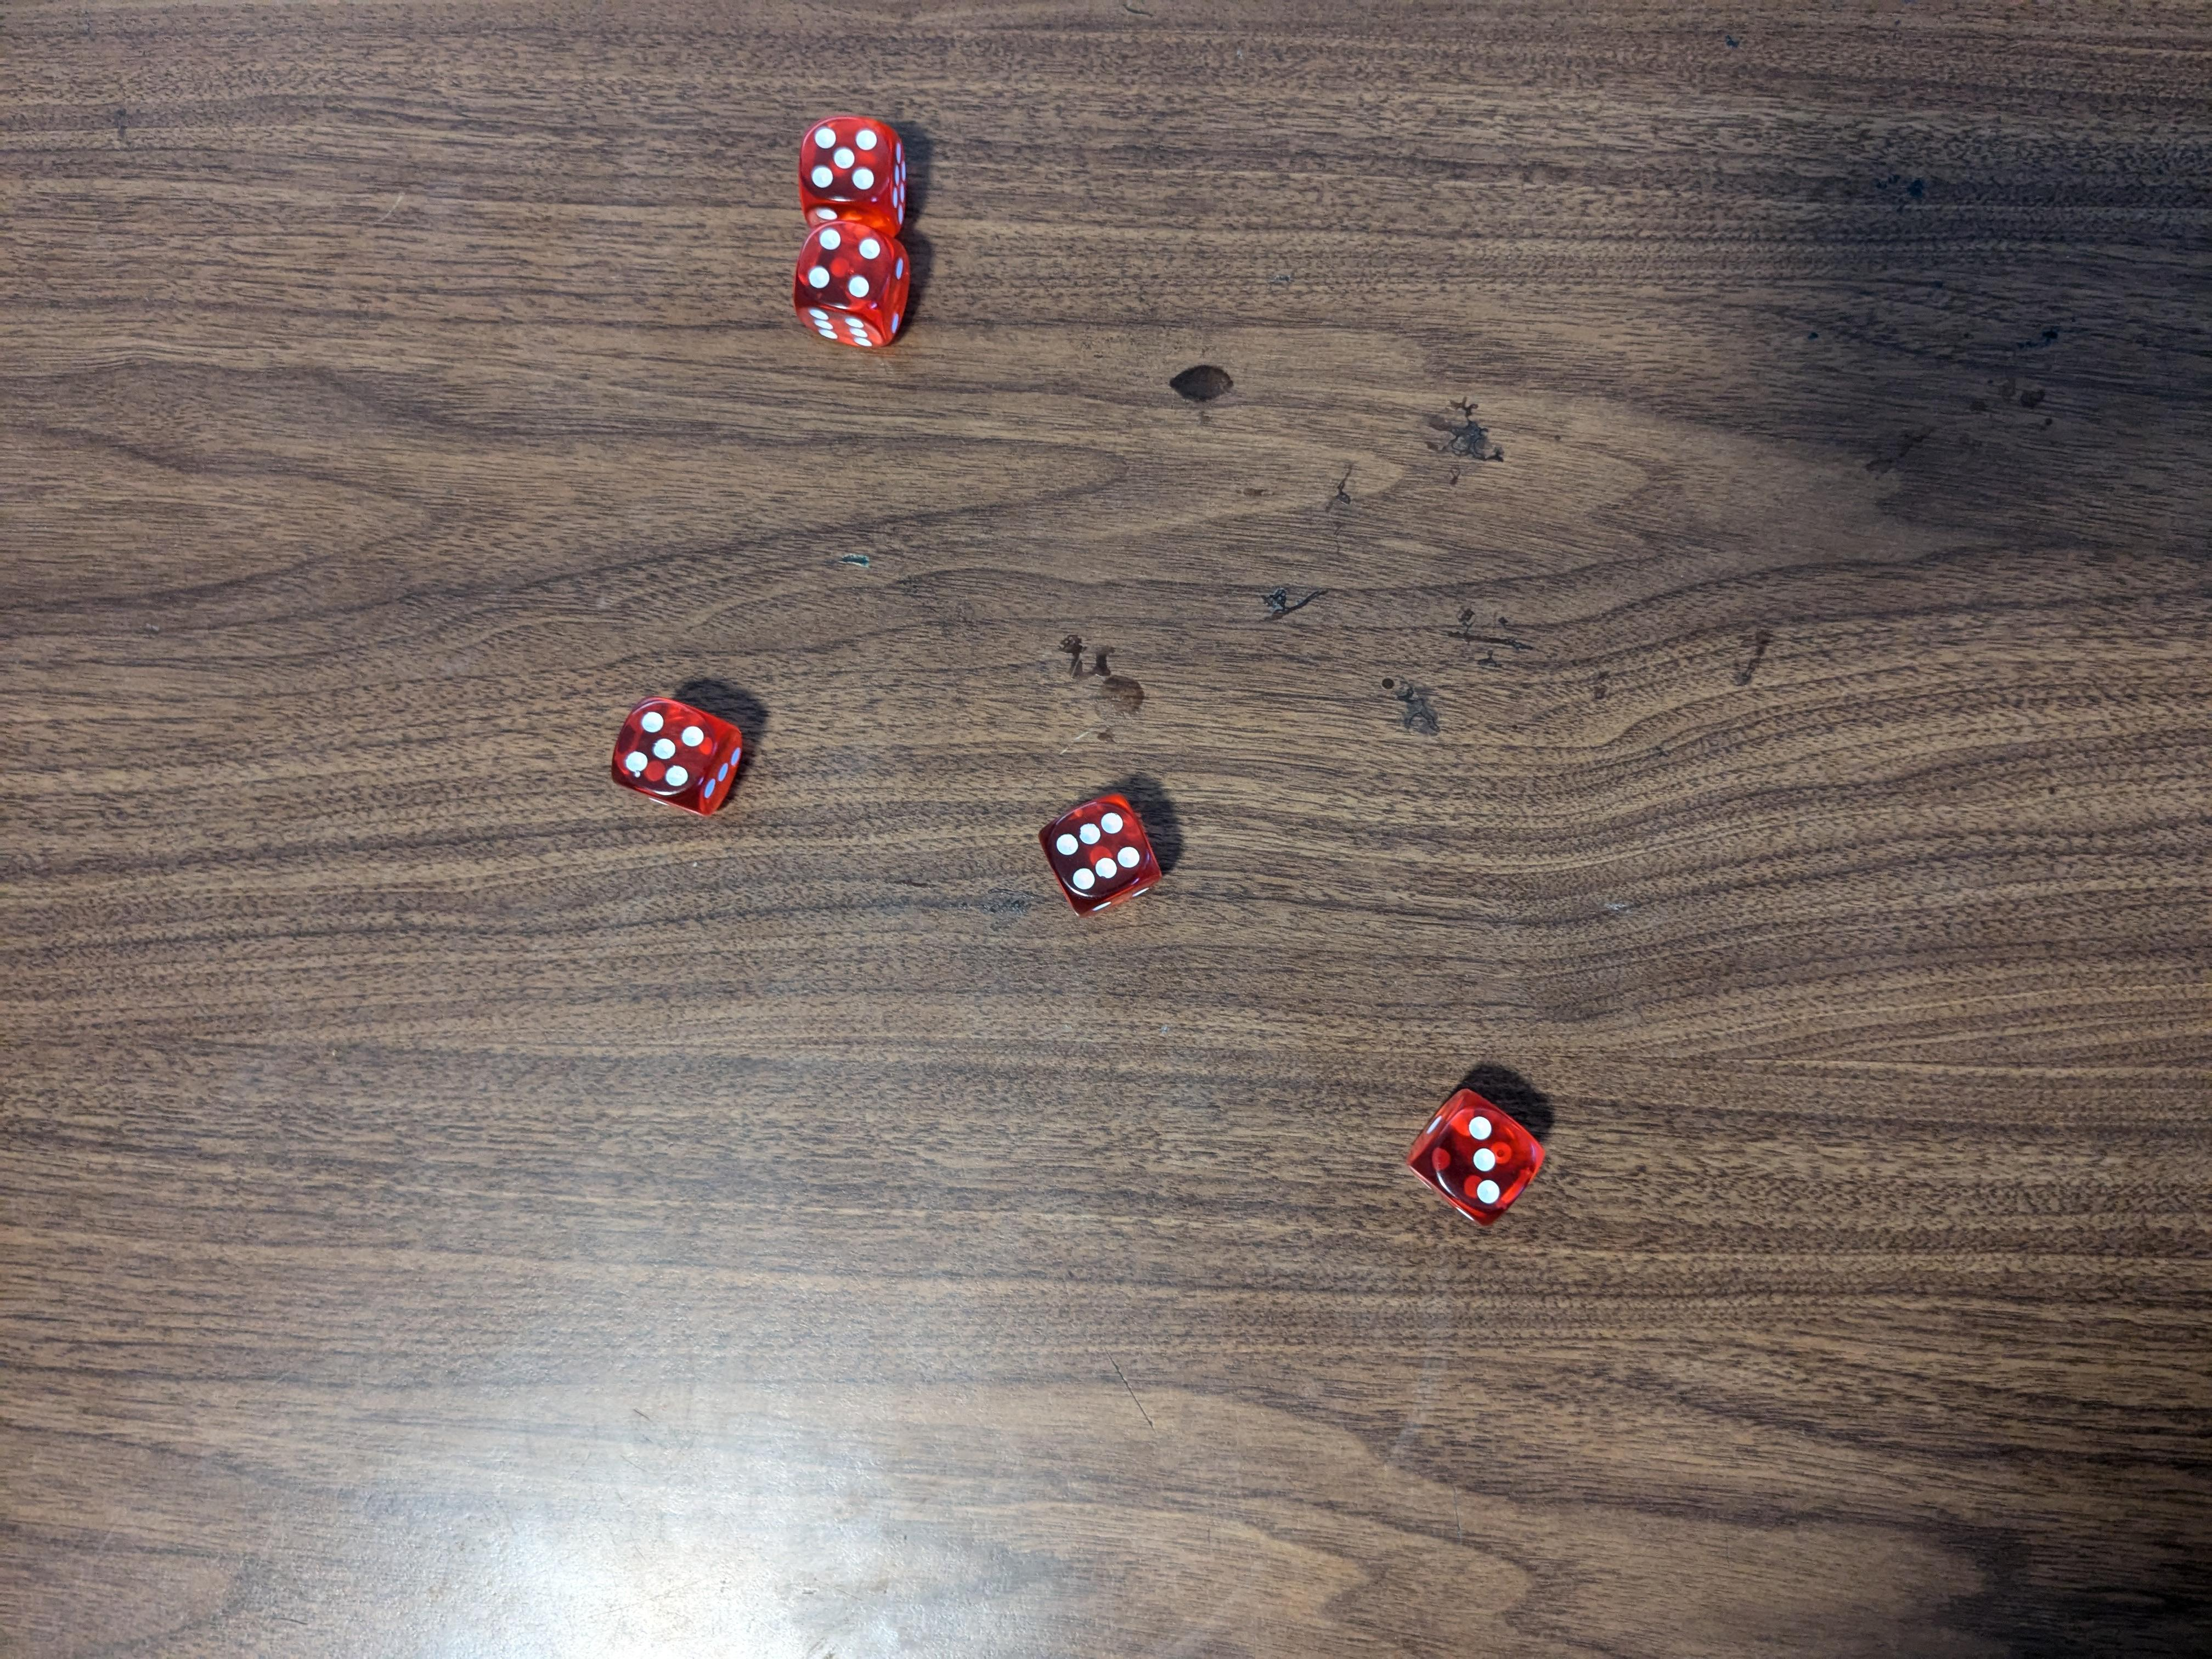five: (613, 697, 751, 824), (791, 108, 907, 230)
four: (787, 221, 911, 352)
six: (1042, 793, 1169, 927)
three: (1406, 1089, 1557, 1223)
